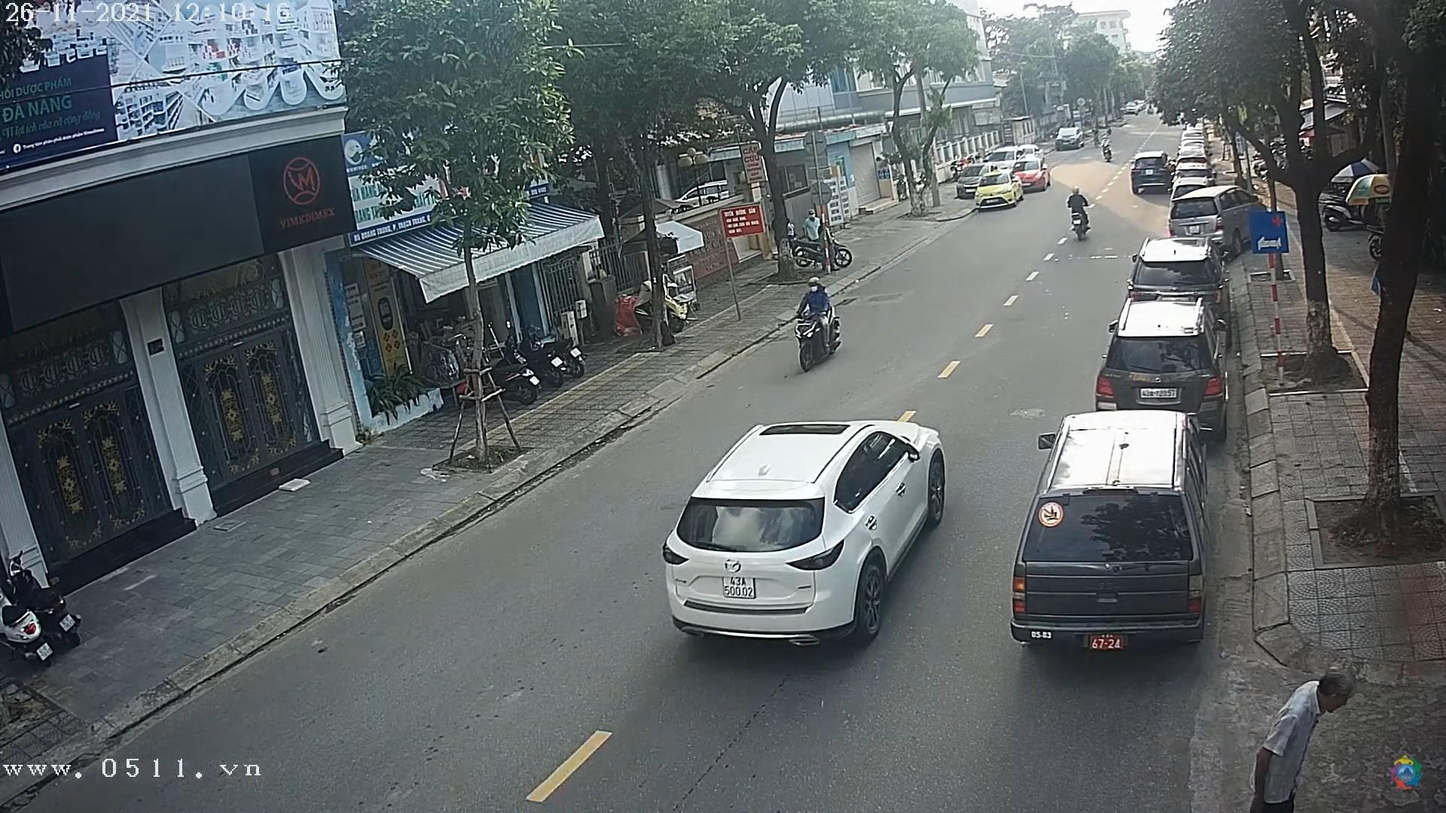car: (662, 421, 953, 643), (1014, 411, 1209, 647), (1094, 296, 1223, 416), (1166, 184, 1274, 256), (1133, 236, 1226, 296), (1131, 159, 1172, 193), (1167, 160, 1214, 188), (1057, 125, 1087, 149)
motorbike: (789, 307, 846, 374), (1068, 193, 1093, 237)
